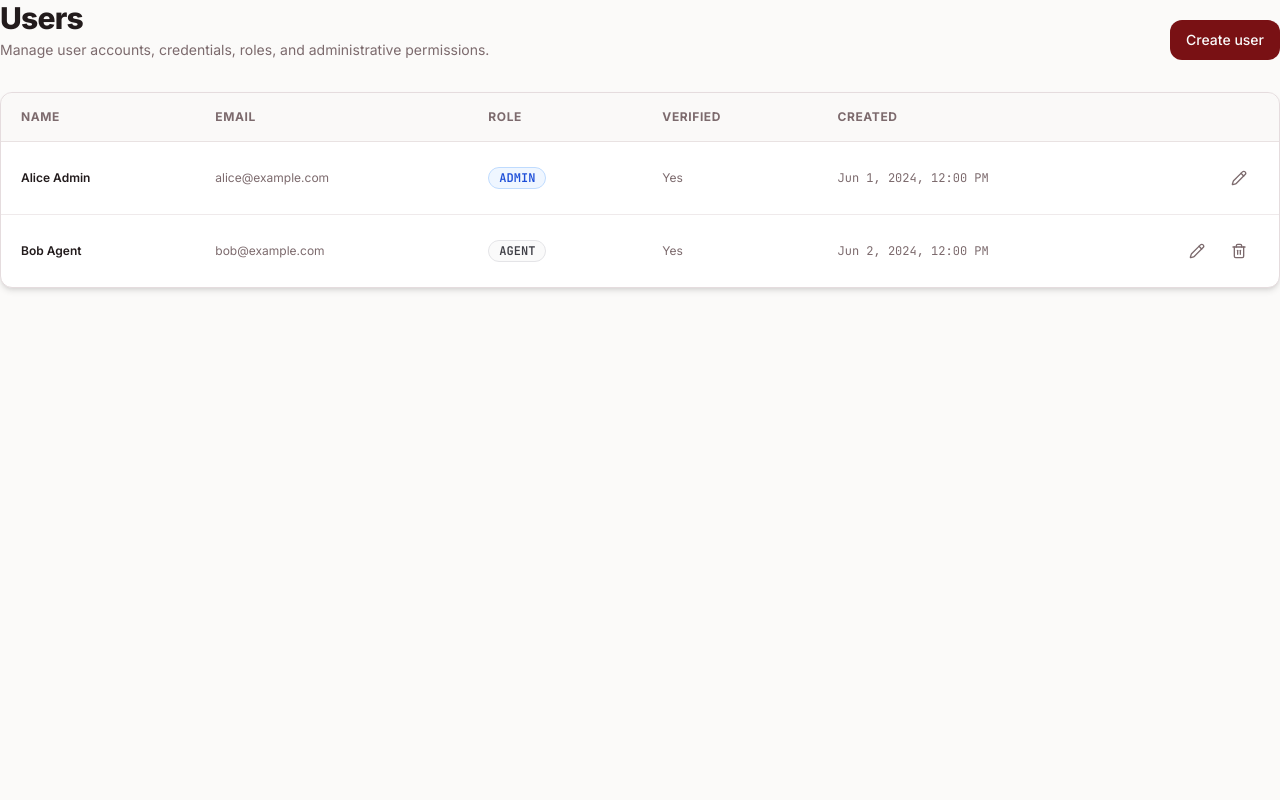
Test: UsersPage › opens the edit-user dialog when the row edit button is clicked
This screenshot has width=1280, height=800.
Expected: the text "Alice Admin" is shown, [1,142,195,214]
Expected: the dialog "Edit user" is not shown
Click the button named "Edit user Alice Admin".
click(1239, 178)  # box [1219,158,1259,198]
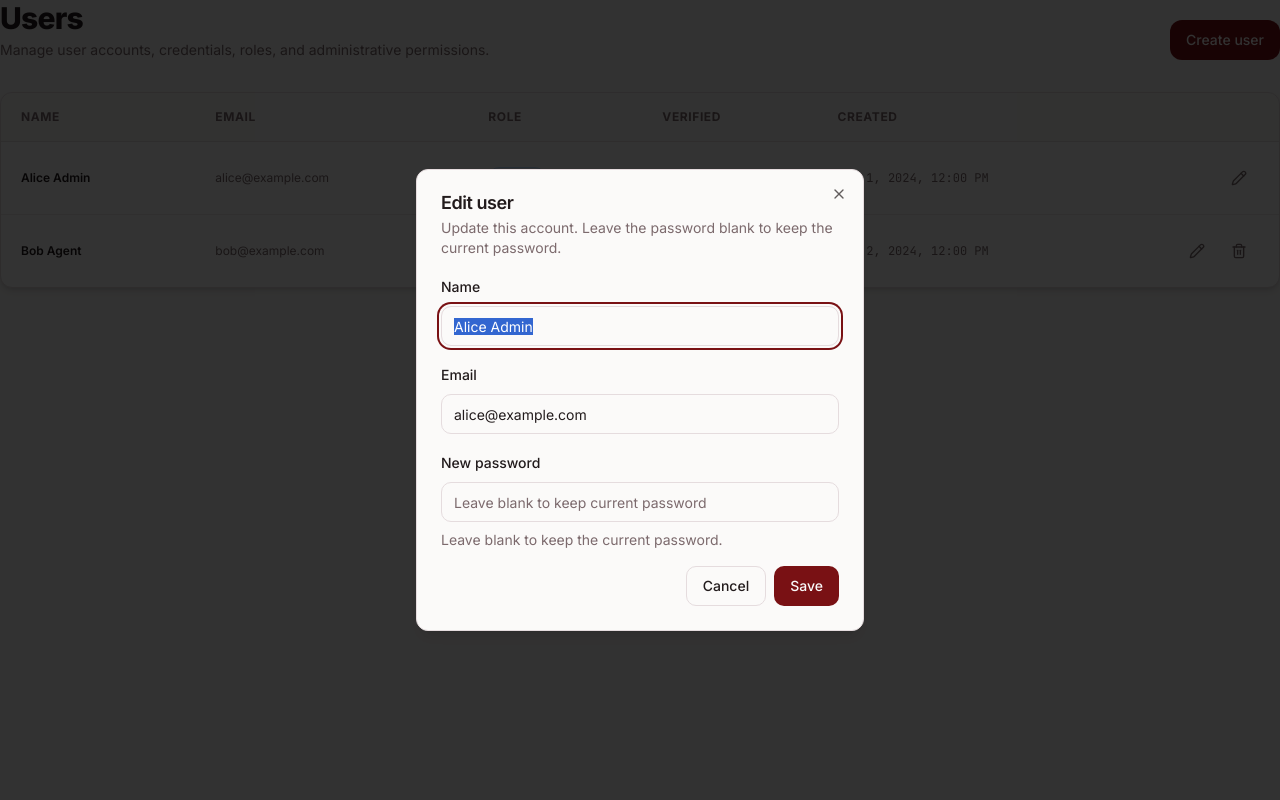
Now the field labelled "Name" holds "Alice Admin", box [441,306,839,346]
Now the field labelled "Email" holds "alice@example.com", box [441,394,839,434]
